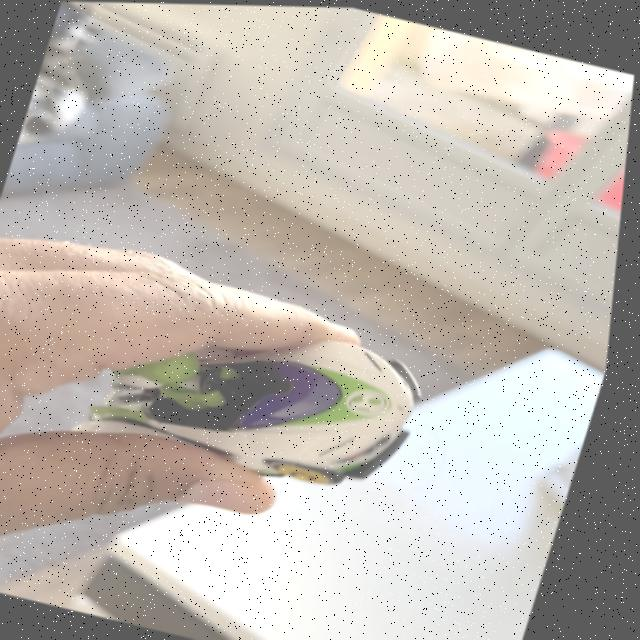yoshi: (73, 304, 406, 505)
